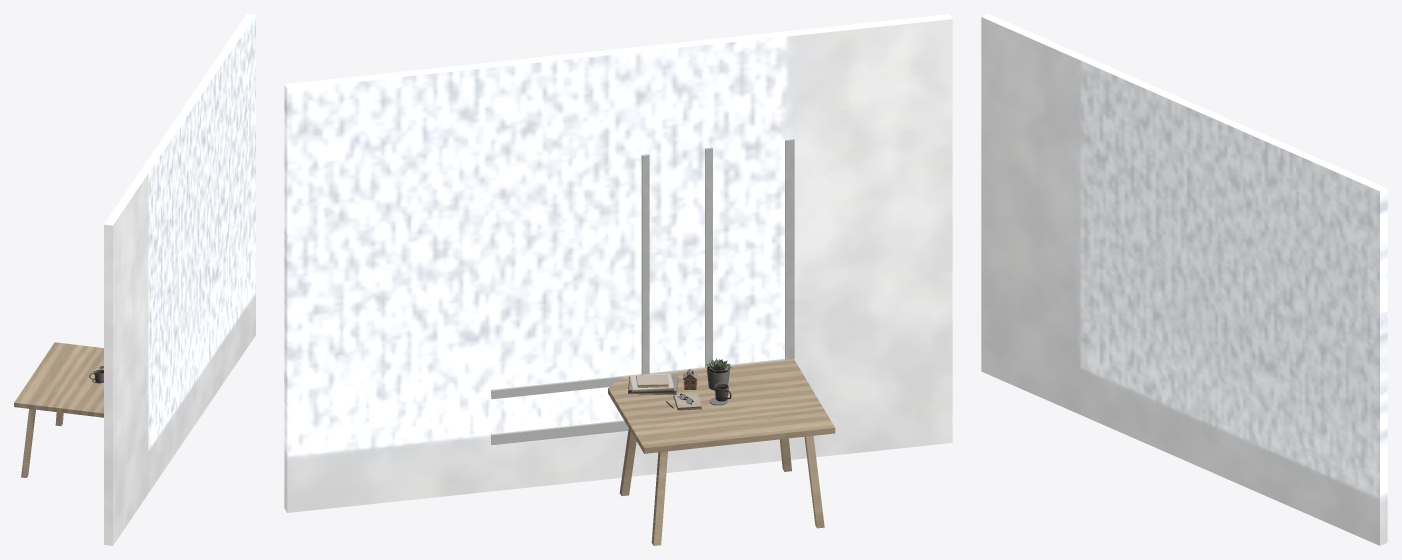
The model's file is ours.glb.
3 renders of one model, left to right at view 1: azimuth 30°, elevation 25°; view 2: azimuth 150°, elevation 25°; view 3: azimuth 270°, elevation 25°, orthographic. The views are drawn at different scales.
Visible parts, largest first — view 1: wall_0, table_0; view 2: wall_0, table_0, wall_0_jamb, wall_0_mull0, wall_0_mull1, wall_0_sill, wall_0_rail; view 3: wall_0.
Part boxes in pixels (left/top/right/bottom): wall_0: left=104, top=14, right=255, bottom=545; table_0: left=14, top=342, right=103, bottom=477; wall_0: left=284, top=14, right=952, bottom=512; table_0: left=608, top=359, right=835, bottom=545; wall_0_jamb: left=785, top=139, right=794, bottom=359; wall_0_mull0: left=641, top=154, right=649, bottom=374; wall_0_mull1: left=705, top=147, right=712, bottom=368; wall_0_sill: left=491, top=420, right=628, bottom=445; wall_0_rail: left=491, top=359, right=785, bottom=399; wall_0: left=981, top=14, right=1387, bottom=545.
Size of what is drawn, in the model's own units: 3.23 by 3 by 3.11.
13 materials, 13 textured.
